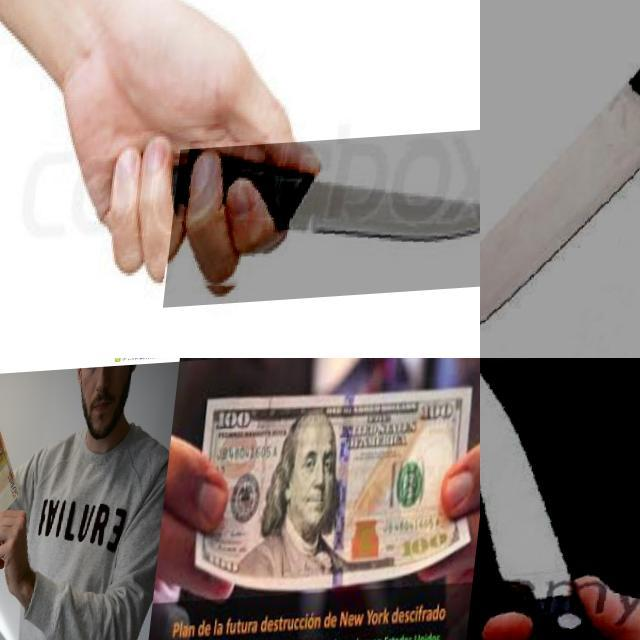-: (480, 0, 640, 358), (173, 134, 480, 311), (480, 358, 640, 640)
